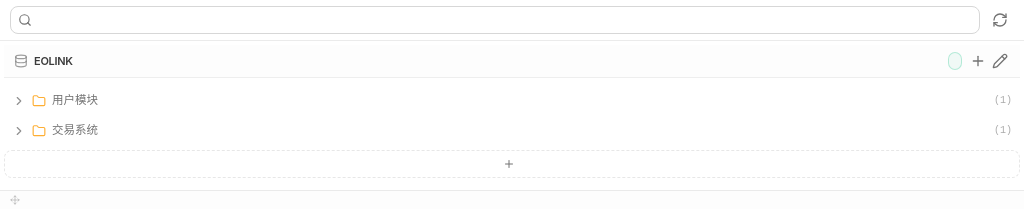
Test: DataSourcePanel › supports searching items by name, path, and directory with auto-expansion
Expected: the text "用户模块" is shown, 52,93 -> 98,107
Expected: the text "交易系统" is shown, 52,123 -> 98,137
Note: 按名称检索：输入“用户”，匹配“获取用户信息”，自动展开“用户模块”，过滤掉“交易系统”
In the field with test id "datasource-search-input": (495, 20) 10,6 -> 980,34, type "用户"
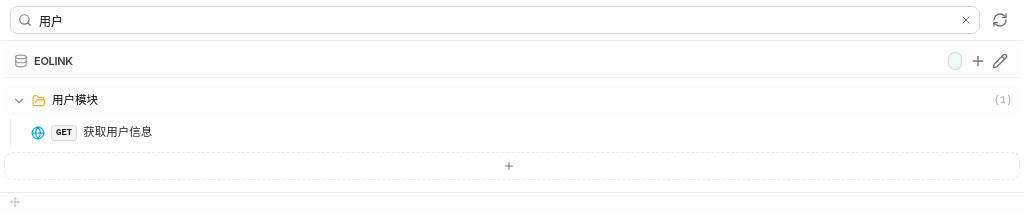
Now the text "获取用户信息" is shown, box 83,125 -> 152,139
Now the button "交易系统" is gone
Note: 按路径检索：输入“/orders/create”，匹配“提交订单”，自动展开“交易系统”
Replace the text in the field with test id "datasource-search-input" with "/orders/create": (495, 20) 10,6 -> 980,34
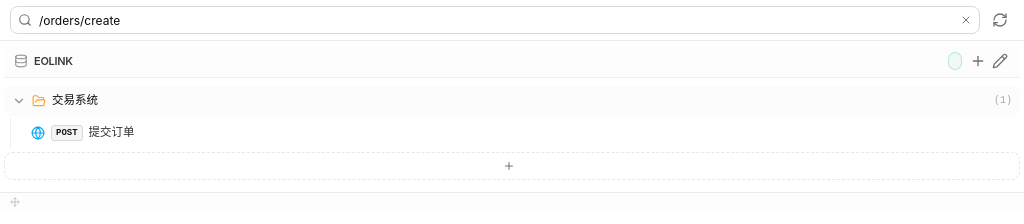
Now the text "提交订单" is shown, box 89,125 -> 135,139
Now the text "获取用户信息" is gone
Note: 按目录检索：输入“交易”，整个“交易系统”目录及其条目展示
Replace the text in the field with test id "datasource-search-input" with "交易": (495, 20) 10,6 -> 980,34
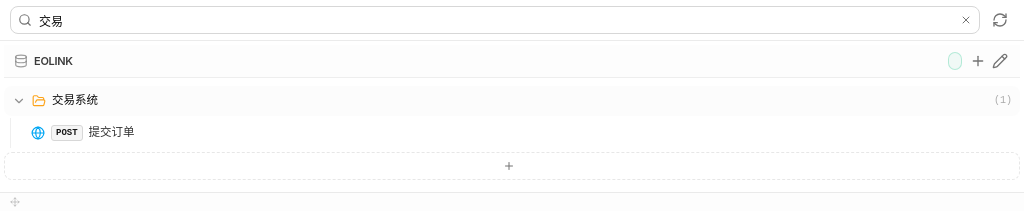
Expected: the button "用户模块" is not shown
Now the text "交易系统" is shown, box 52,93 -> 98,107
Now the text "提交订单" is shown, box 89,125 -> 135,139
Note: 清空检索：点击清空按钮，恢复所有目录
Click the button with test id "datasource-search-clear": (966, 20) 958,12 -> 974,28
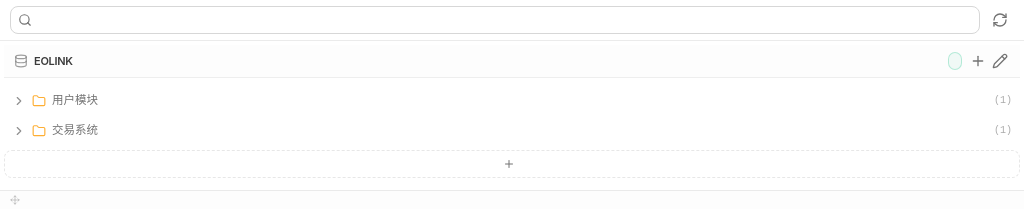
Now the text "交易系统" is shown, box 52,123 -> 98,137
Now the text "用户模块" is shown, box 52,93 -> 98,107
